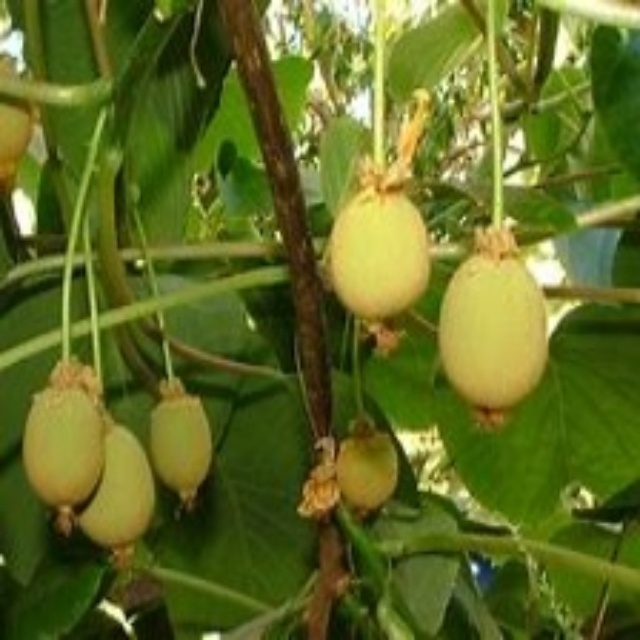kiwi: (428, 234, 551, 428), (23, 379, 155, 554), (320, 167, 438, 347), (135, 370, 235, 515), (299, 418, 408, 524)
